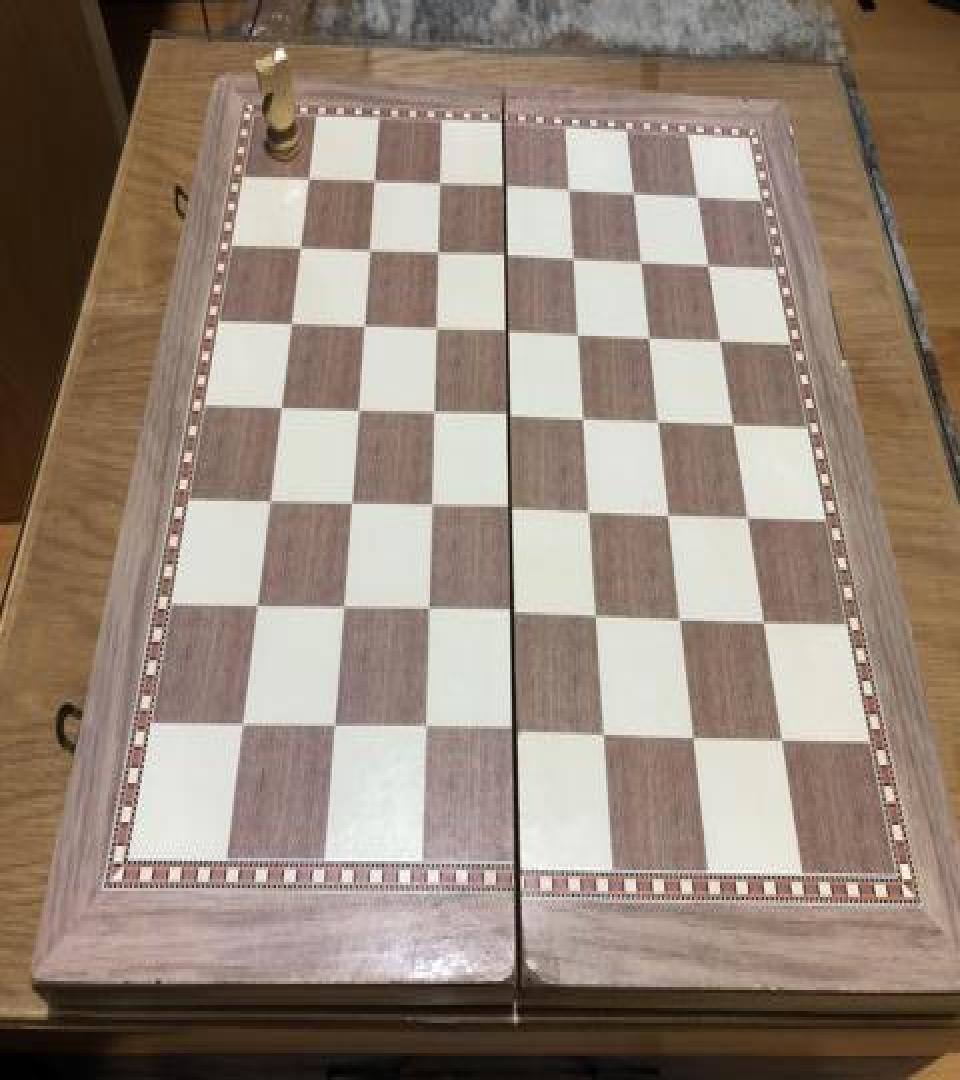xcorner: (412, 595, 436, 632), (590, 718, 614, 755), (687, 178, 711, 214), (622, 176, 646, 212), (556, 174, 580, 210), (490, 171, 514, 207), (424, 168, 448, 204), (358, 166, 382, 202), (292, 164, 316, 200), (697, 248, 721, 284), (629, 244, 653, 280), (560, 243, 584, 279), (491, 240, 515, 276), (422, 237, 446, 273), (353, 236, 377, 272), (284, 232, 308, 268), (709, 324, 733, 360), (637, 321, 661, 357), (565, 318, 589, 354), (493, 316, 517, 352), (420, 314, 444, 350), (348, 310, 372, 346), (275, 309, 299, 345), (722, 408, 746, 444), (646, 405, 670, 441), (570, 402, 594, 438), (494, 400, 518, 436), (418, 398, 442, 434), (341, 394, 365, 430), (264, 393, 288, 429), (736, 501, 760, 537), (656, 498, 680, 534), (576, 496, 600, 532), (496, 494, 520, 530), (415, 490, 439, 526), (334, 489, 358, 525), (253, 486, 277, 522), (752, 606, 776, 642), (668, 603, 692, 639), (583, 600, 607, 636), (497, 598, 521, 634), (326, 592, 350, 628), (240, 591, 264, 627), (770, 723, 794, 759), (680, 722, 704, 758), (499, 716, 523, 752), (409, 714, 433, 750), (317, 711, 341, 747), (226, 708, 250, 744)
